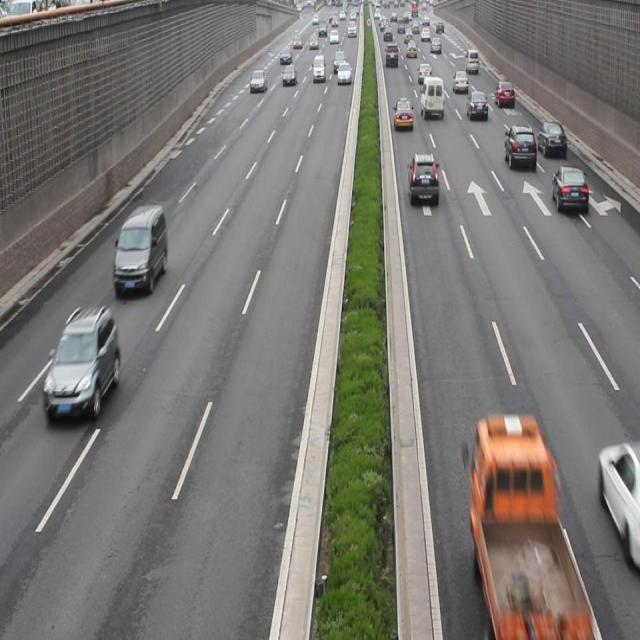bus: (465, 418, 582, 629)
car: (43, 309, 120, 420), (598, 439, 640, 554), (551, 163, 586, 217), (505, 124, 534, 174), (408, 156, 438, 204), (536, 122, 564, 160)
truck: (115, 206, 167, 292)
